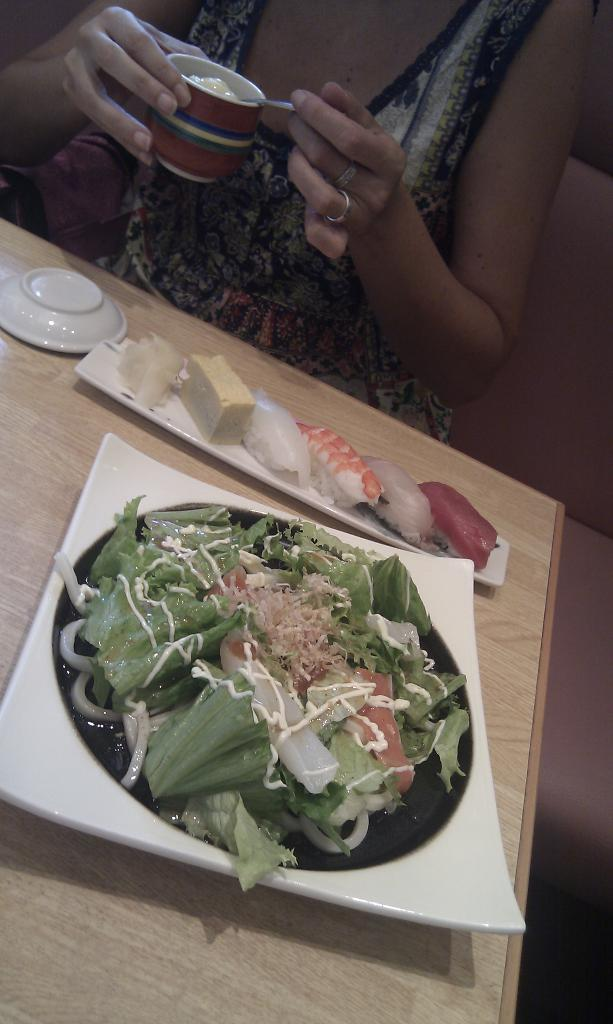salad: (19, 506, 464, 885)
